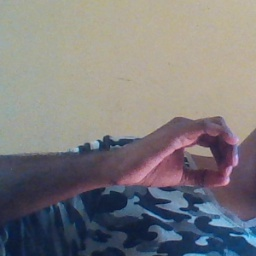O: (112, 108, 245, 208)
